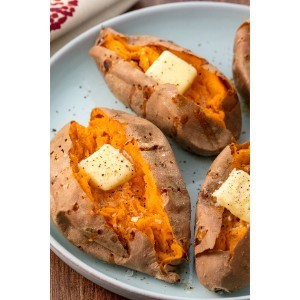sweet potato_brain food: (56, 133, 164, 254), (102, 46, 227, 116), (188, 155, 234, 288)
